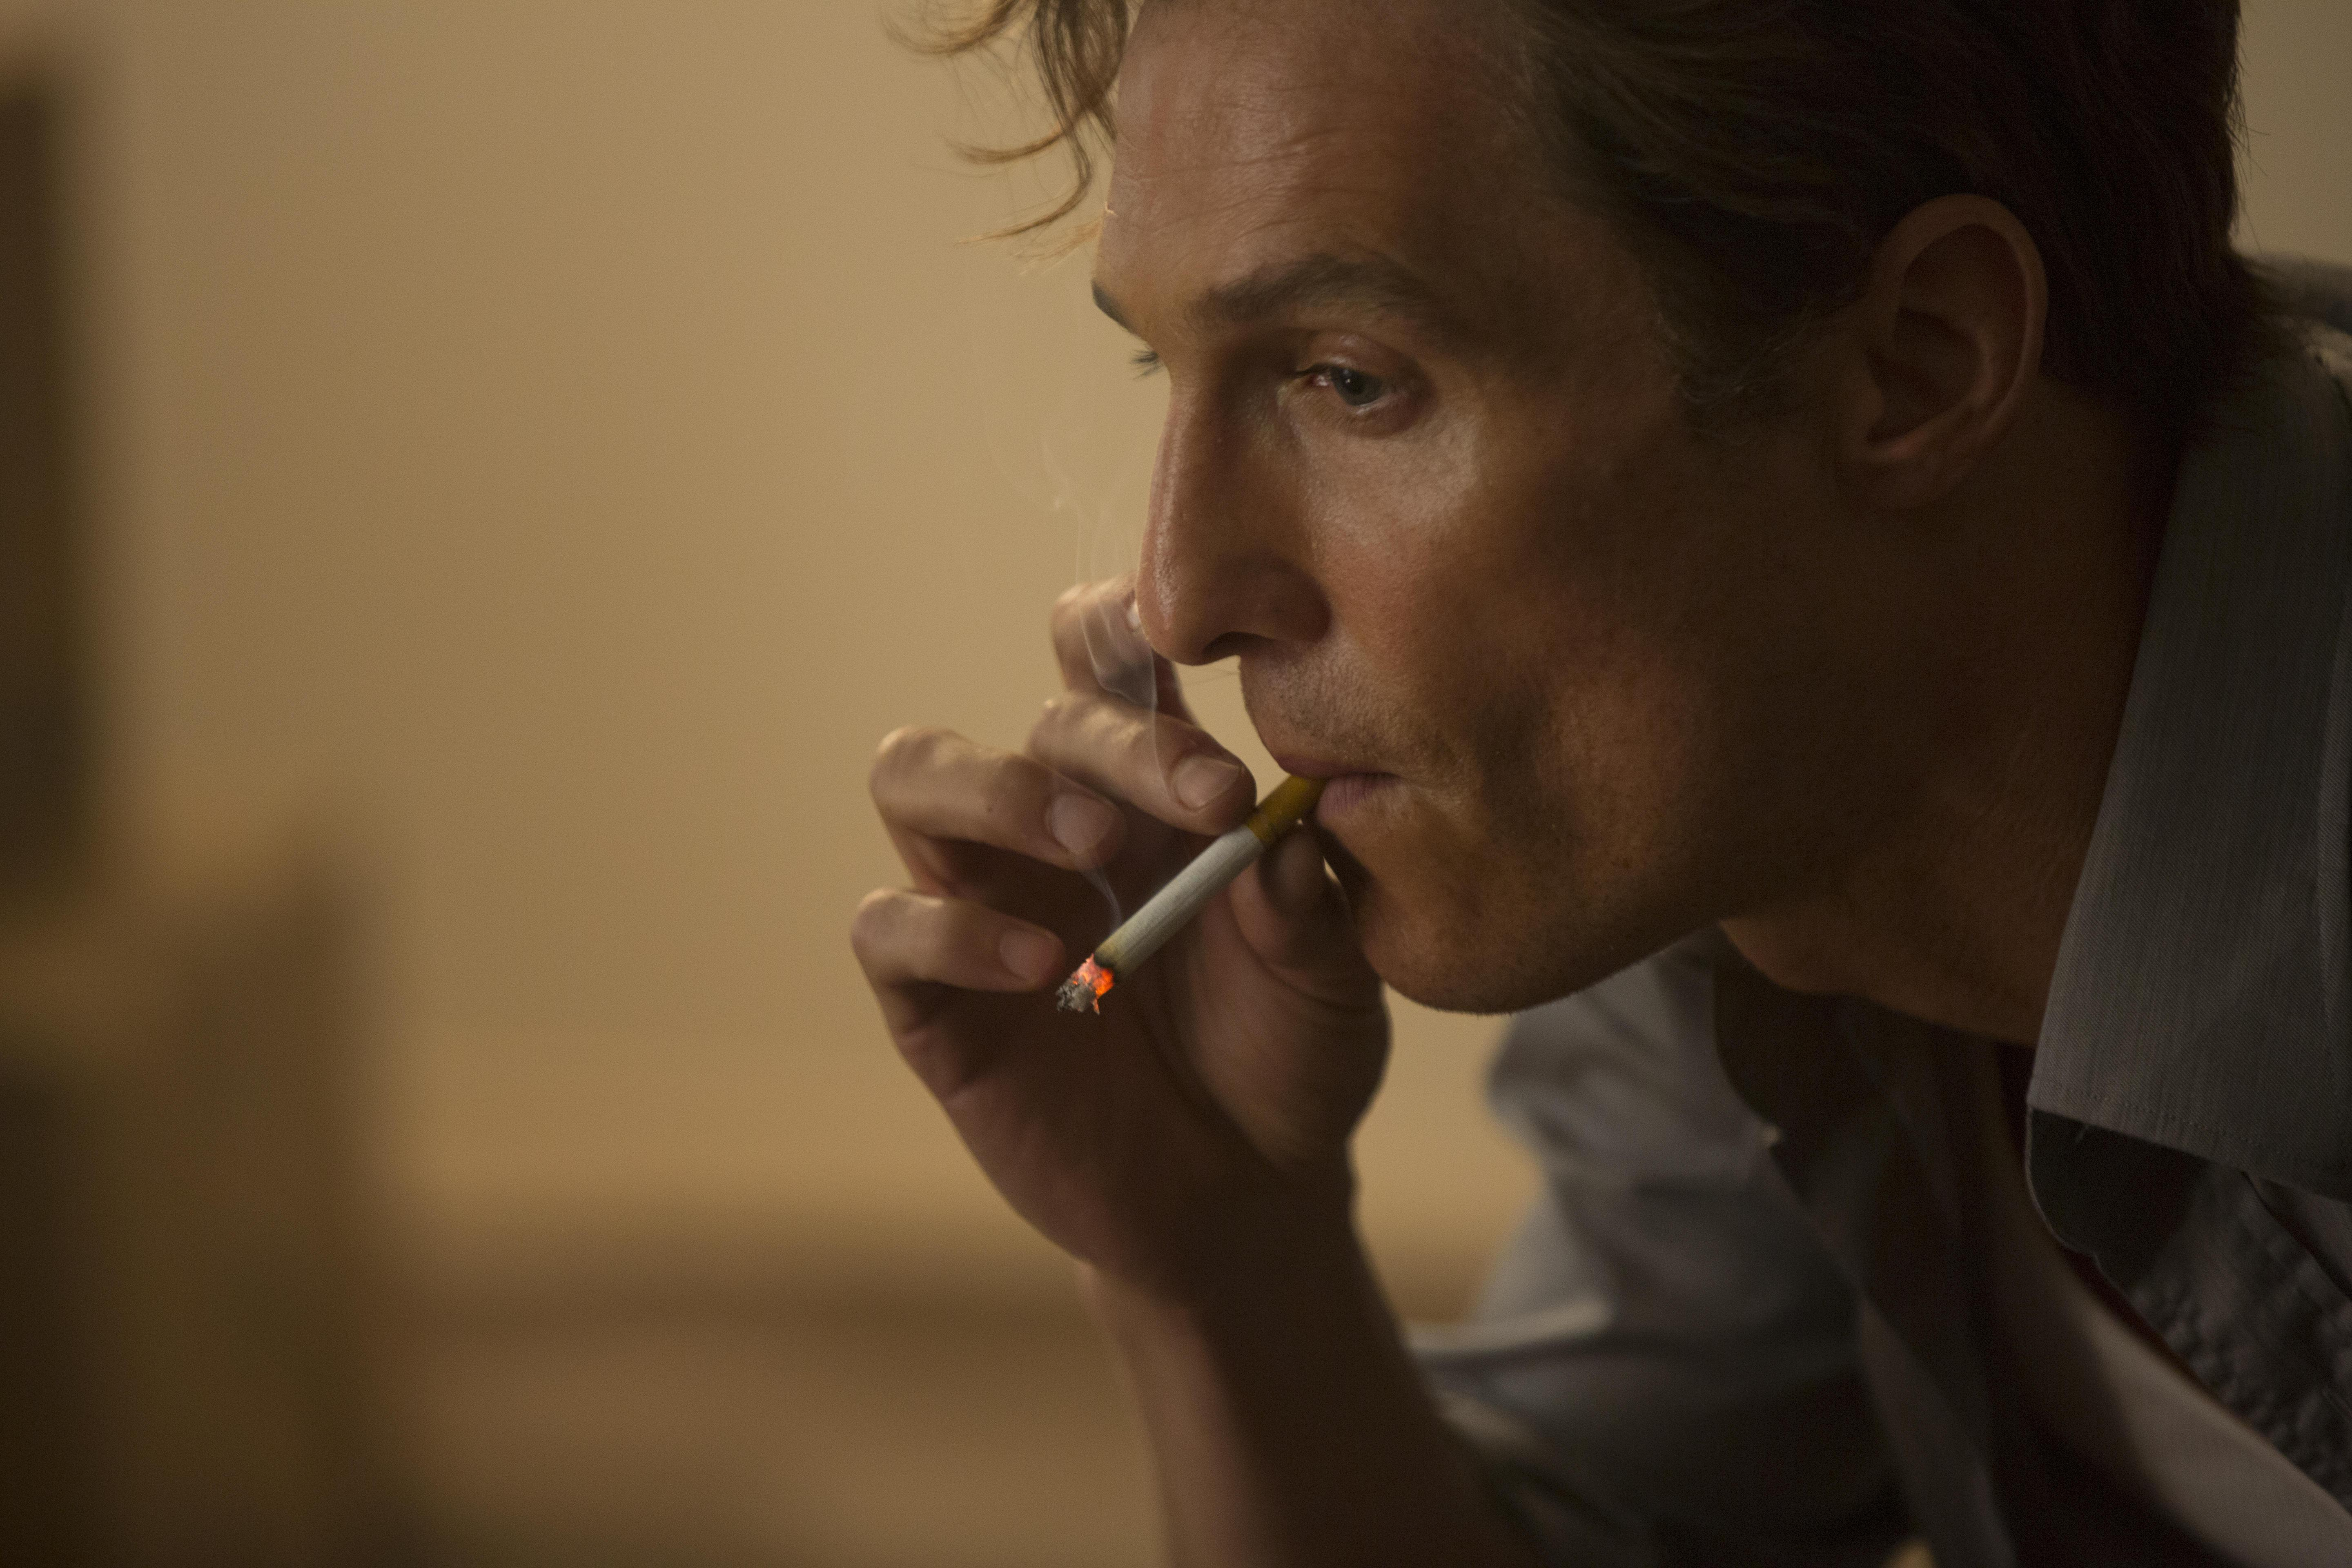cigarette: (1057, 773, 1333, 1015)
